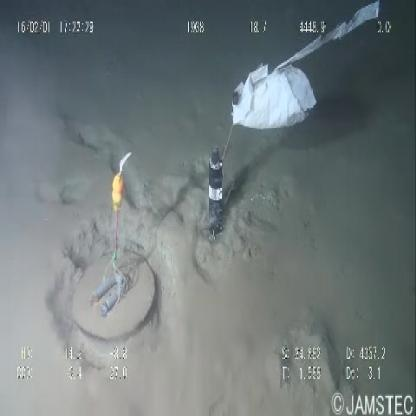Rov: (68, 142, 230, 346)
Rác: (229, 2, 385, 137)
